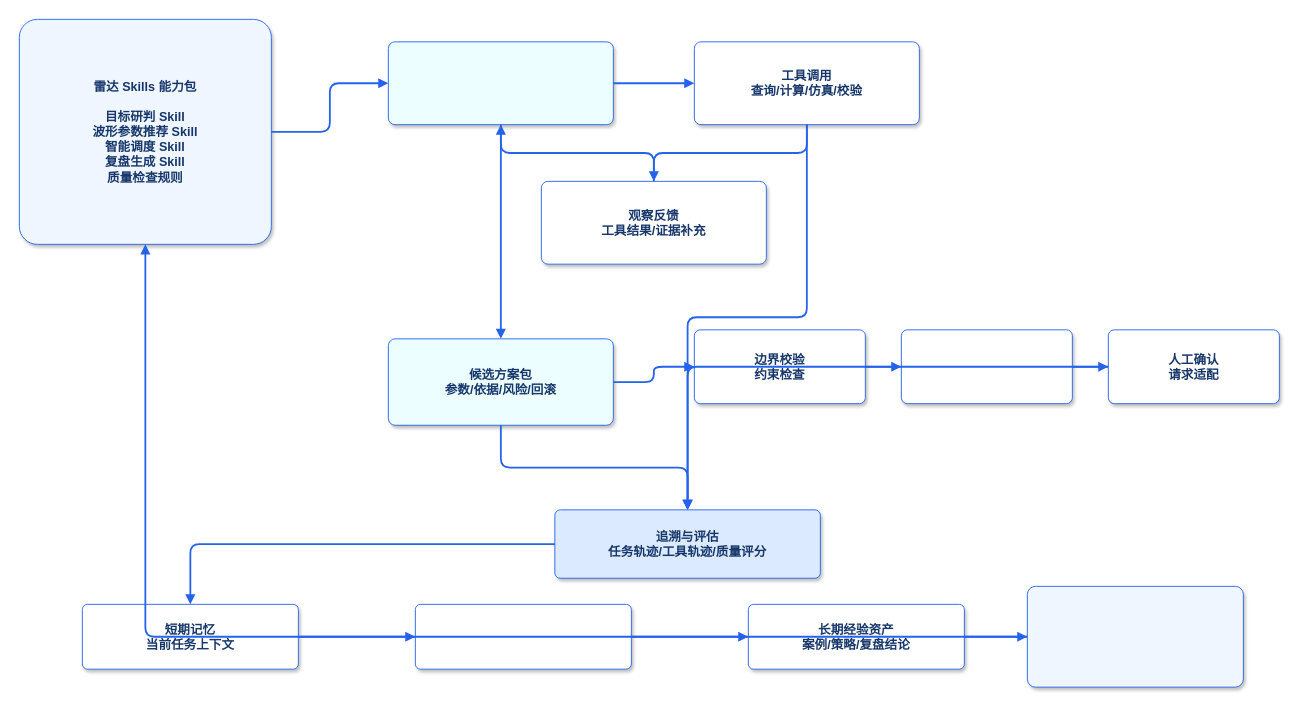
Image size: 1301x709. Some labels were removed from this diagram. Here are the shapes that lost their labels. From the top down, the centre of each, then its label:
point 501,84: 推理 任务理解/证据解释
point 987,367: 仿真评估 效果估计
point 524,637: 中期记忆 近期任务链/目标状态
point 1136,637: 经验治理 记录-评估-抽取 确认-复用
